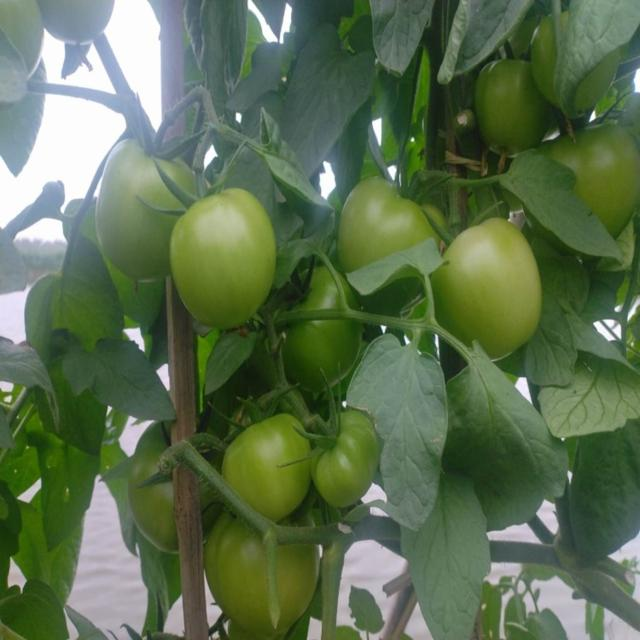tomato: (438, 219, 543, 364), (169, 188, 276, 324), (210, 518, 320, 637), (102, 137, 191, 281), (547, 124, 640, 231), (345, 176, 440, 280), (226, 412, 312, 522), (290, 268, 364, 386), (317, 406, 382, 509), (135, 423, 180, 550), (482, 60, 544, 145), (39, 1, 126, 47), (535, 23, 571, 99)
